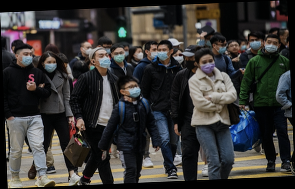with_mask: (200, 57, 216, 75), (97, 52, 112, 70), (183, 55, 198, 72), (127, 82, 142, 98), (264, 38, 279, 54), (19, 50, 33, 66), (44, 58, 57, 74), (157, 47, 170, 62), (216, 42, 229, 56), (249, 37, 262, 50), (112, 51, 126, 63), (173, 52, 185, 66), (204, 35, 213, 48), (135, 49, 145, 60), (149, 47, 158, 59), (84, 45, 93, 56), (104, 45, 113, 54), (123, 46, 129, 57), (240, 42, 247, 51)
without_mask: (228, 43, 241, 54)
